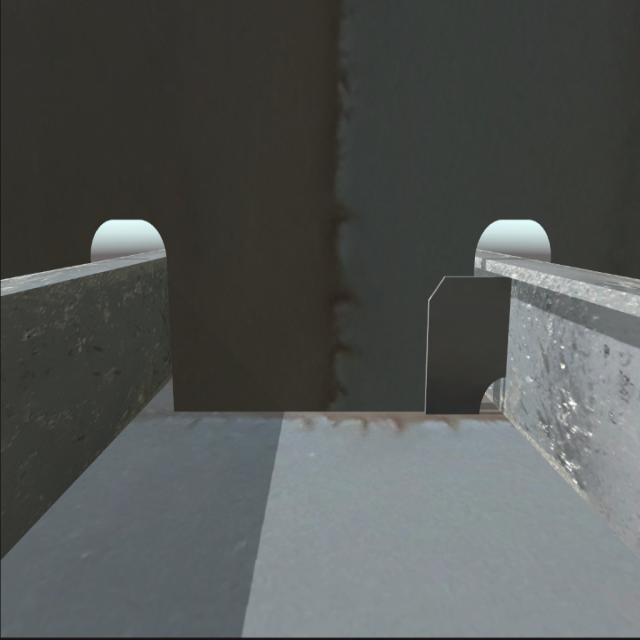fillet_yong_jeop_jang: (174, 403, 480, 418)
longi_yong_jeop_jang: (502, 273, 515, 381)
plate_CP03: (425, 266, 514, 423), (477, 371, 507, 417)
